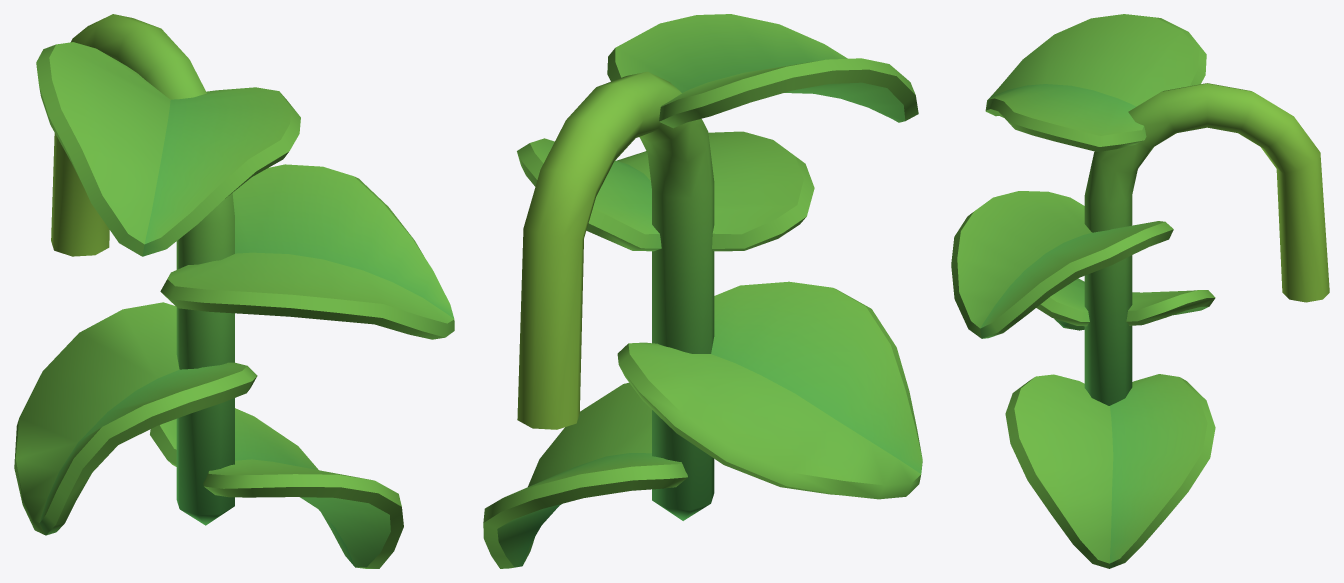
The model's file is Pothos Vine Large A.glb.
The picture shows the model from 3 angles, left to right: view 1: azimuth 30°, elevation 25°; view 2: azimuth 150°, elevation 25°; view 3: azimuth 270°, elevation 25°; orthographic projection. The views are drawn at different scales.
Parts seen in each view (by area): view 1: pothos_vine_large_A; view 2: pothos_vine_large_A; view 3: pothos_vine_large_A.
Boxes of the visible parts, <box> form: pothos_vine_large_A: <box>14,14,454,568</box>; pothos_vine_large_A: <box>483,14,922,568</box>; pothos_vine_large_A: <box>951,14,1329,568</box>.
Bounding box in the file's own units: 0.7432 × 1.08 × 0.8386.
1 material, 1 textured.
